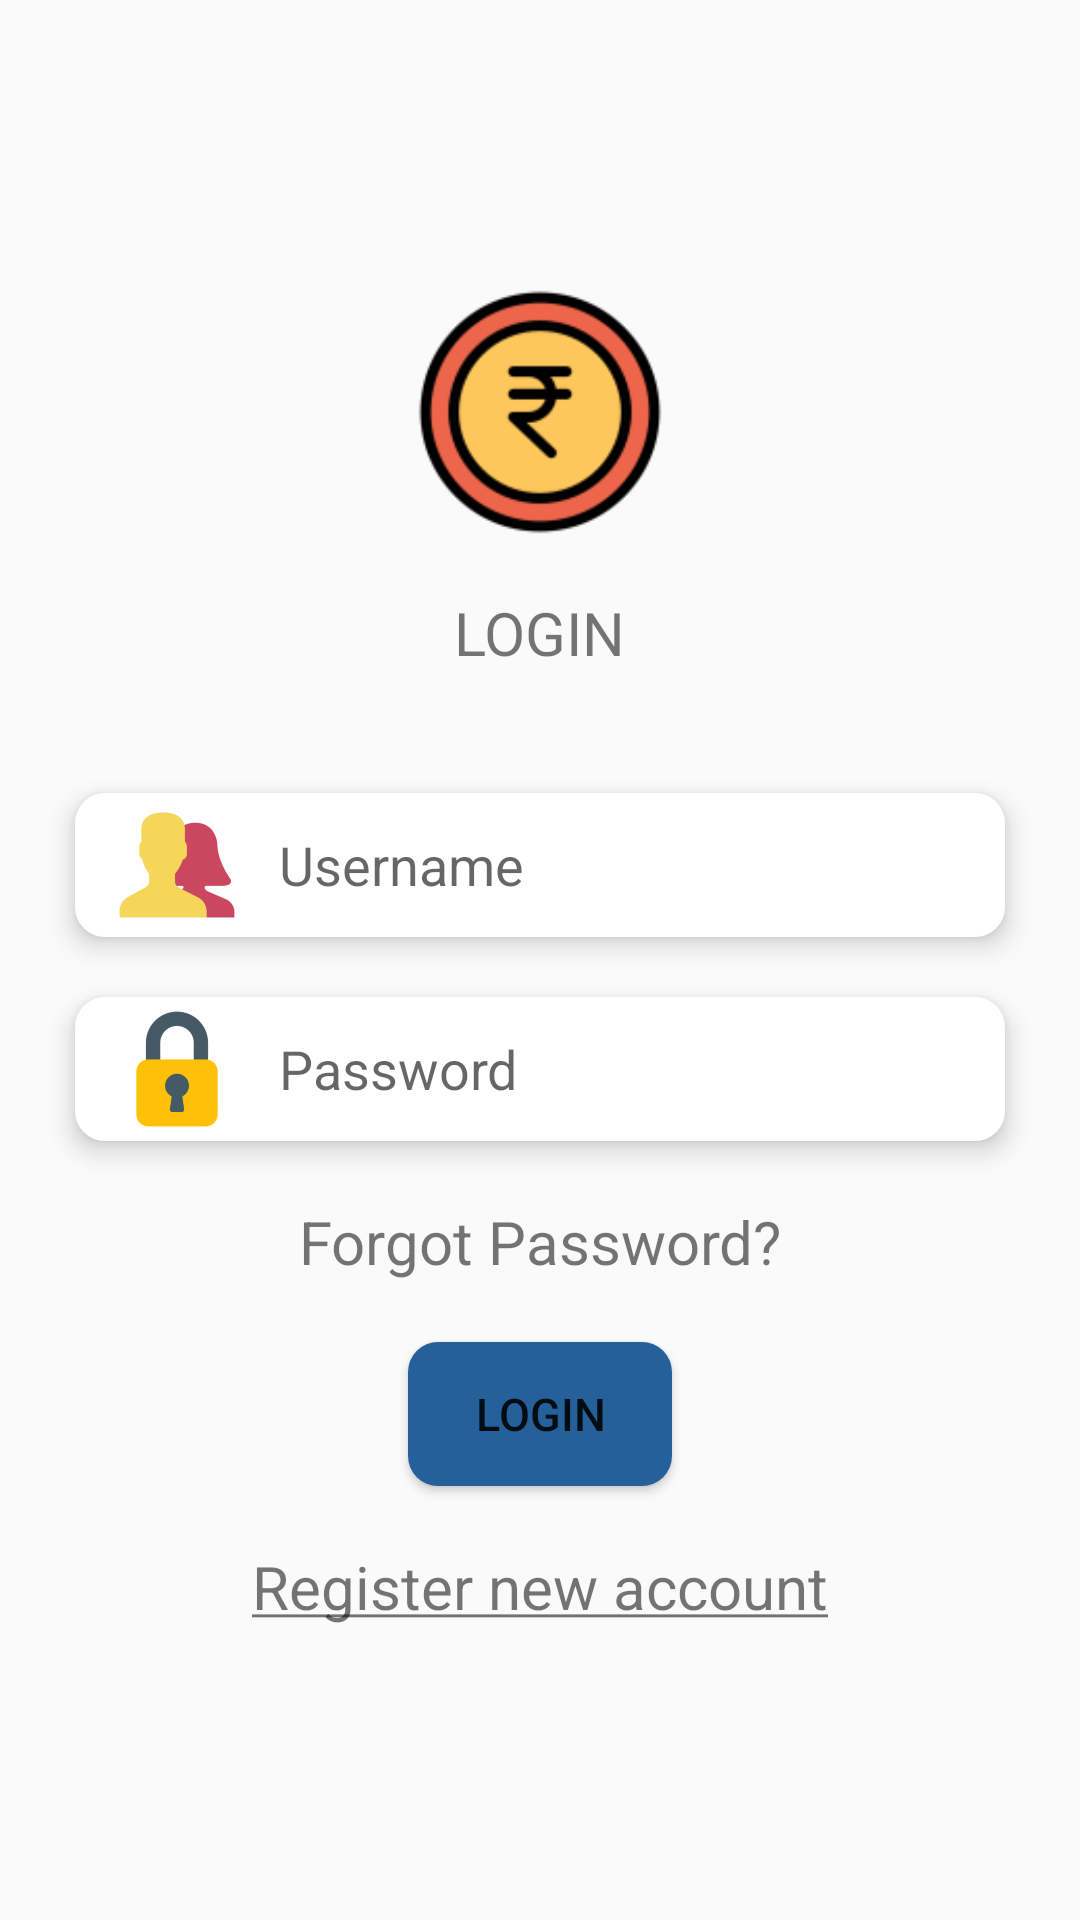

Where to tap for icons on this 1080 × 1920 app screen, as [x,y]:
rupee: [540,412]
